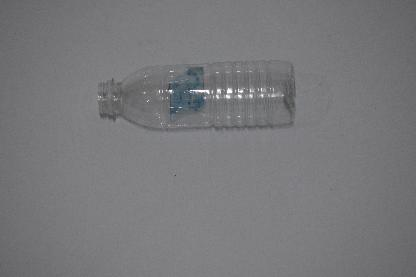Plastic Bottle: (98, 60, 295, 129)
